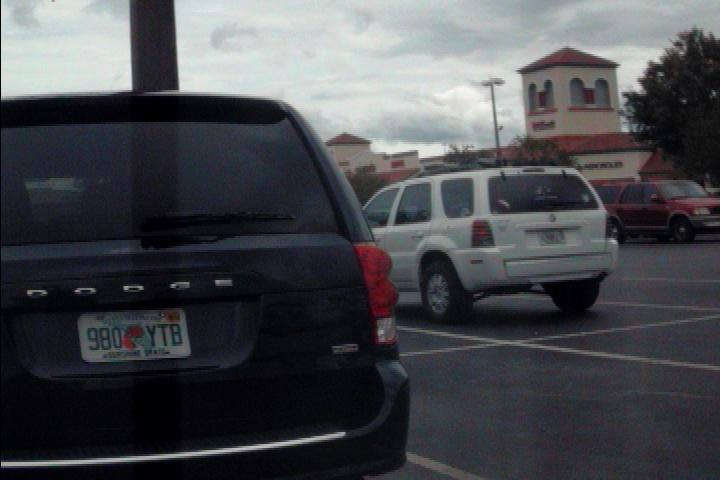placa de veiculo: (73, 298, 207, 373), (522, 216, 579, 260)
